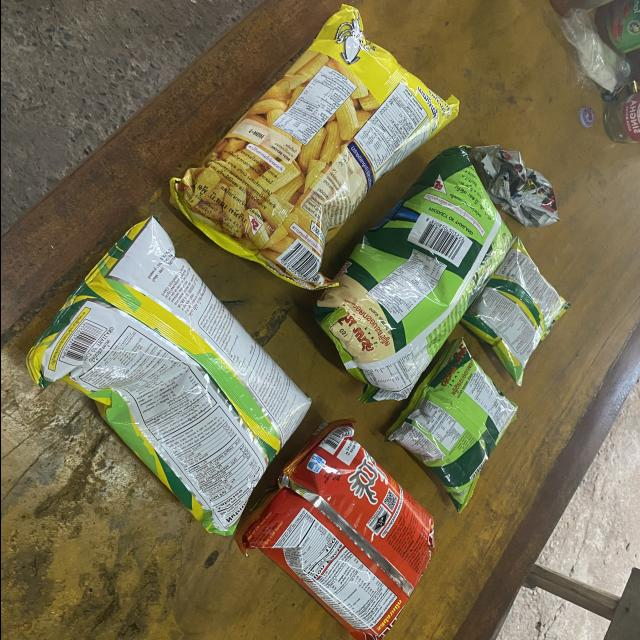plastik: (27, 217, 309, 535), (169, 5, 458, 289), (313, 146, 511, 403), (235, 419, 434, 640), (386, 339, 517, 511), (461, 238, 568, 386), (469, 145, 558, 228)
